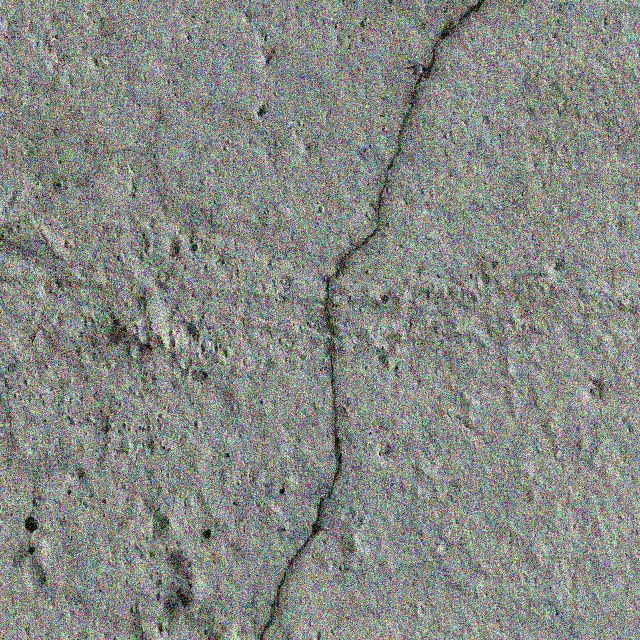SurfaceCrack: (219, 0, 491, 639)
